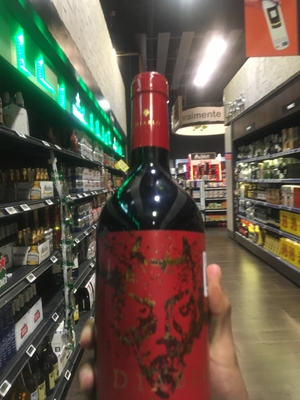diablo dark red: (98, 88, 223, 400)
